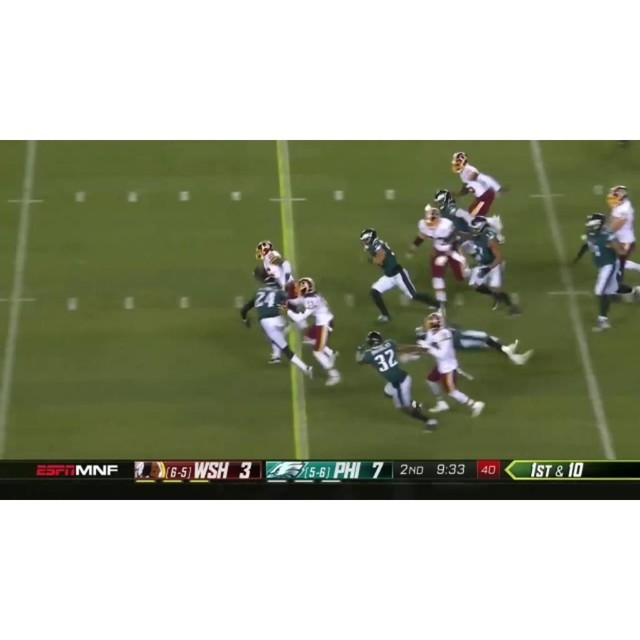american-football-player: (356, 330, 435, 431), (572, 214, 637, 331), (242, 271, 312, 379), (414, 313, 485, 419), (360, 228, 430, 322), (460, 217, 521, 314), (414, 314, 534, 362), (291, 278, 342, 384), (414, 204, 467, 294), (451, 153, 507, 234), (603, 186, 640, 291)
